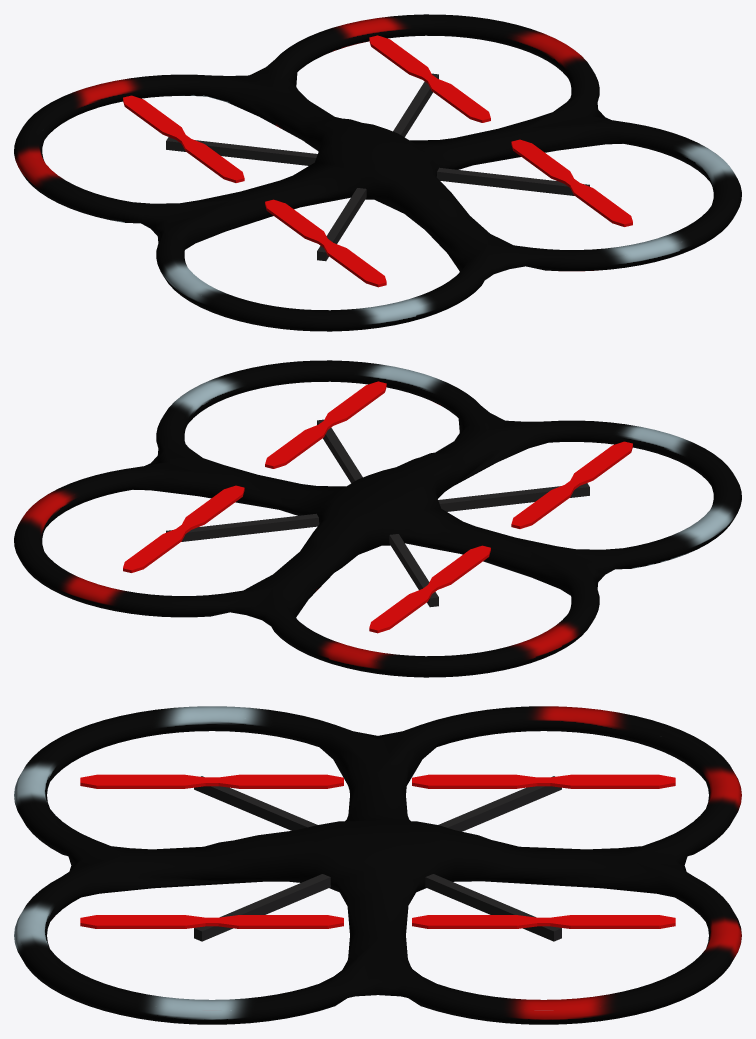
File: Drone.fbx
The picture shows the model from 3 angles, top to bottom: view 1: azimuth 30°, elevation 25°; view 2: azimuth 150°, elevation 25°; view 3: azimuth 270°, elevation 25°; orthographic projection. The views are drawn at different scales.
Visible parts, largest first — view 1: Circle, Cube, Cube.001, Cube.003, Cube.002, Cube.004; view 2: Circle, Cube, Cube.002, Cube.004, Cube.001, Cube.003; view 3: Circle, Cube, Cube.001, Cube.002, Cube.003, Cube.004.
Part boxes in pixels (bbox=[...]): Circle: bbox=[14, 14, 741, 331]; Cube: bbox=[166, 73, 589, 261]; Cube.001: bbox=[123, 95, 244, 182]; Cube.003: bbox=[369, 35, 490, 122]; Cube.002: bbox=[265, 199, 386, 287]; Cube.004: bbox=[511, 139, 632, 226]; Circle: bbox=[14, 360, 741, 677]; Cube: bbox=[166, 419, 589, 607]; Cube.002: bbox=[511, 441, 632, 528]; Cube.004: bbox=[265, 381, 386, 468]; Cube.001: bbox=[369, 545, 490, 633]; Cube.003: bbox=[123, 485, 244, 572]; Circle: bbox=[14, 706, 741, 1024]; Cube: bbox=[194, 776, 561, 941]; Cube.001: bbox=[412, 774, 675, 788]; Cube.002: bbox=[80, 774, 343, 788]; Cube.003: bbox=[412, 915, 675, 928]; Cube.004: bbox=[80, 915, 343, 928].
Size of the model in its own units: 4.39 by 0.2779 by 4.39.
Materials: 6 (1 with a texture image).
